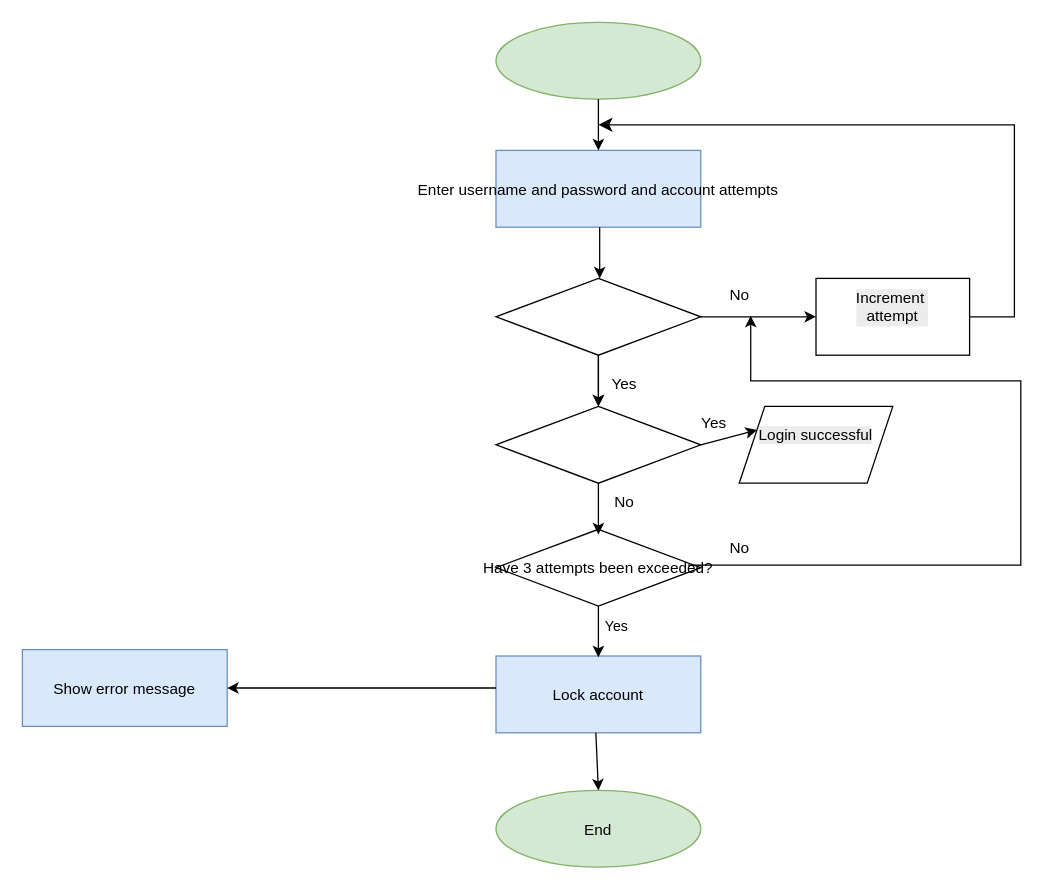
Image size: 1053x890. Some labels were removed from this diagram. Each missing label, with the centre of its shape:
Is password correct?: the point at 598,444
Is username valid?: the point at 598,316
Start: the point at 598,60
